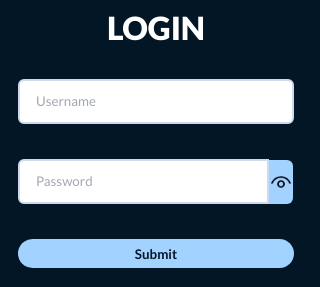
Test: Testing in <Form/> › Should validate username field and show error by required data
Type "contrasena123@" into the password field with placeholder "Password". click: [144, 182]
box: [18,159,269,204]
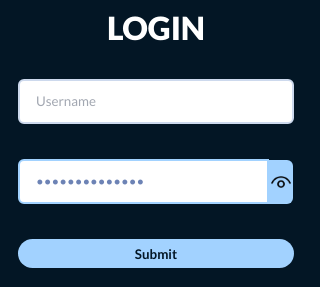
Click the button "Submit". click: [156, 254]
box: [18,239,294,268]
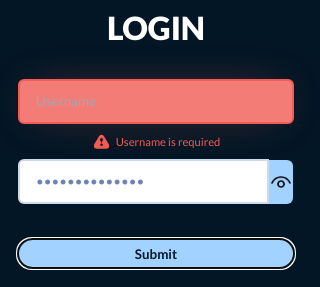
Check: the text "Username is required" is shown, box [116,135,220,148]
